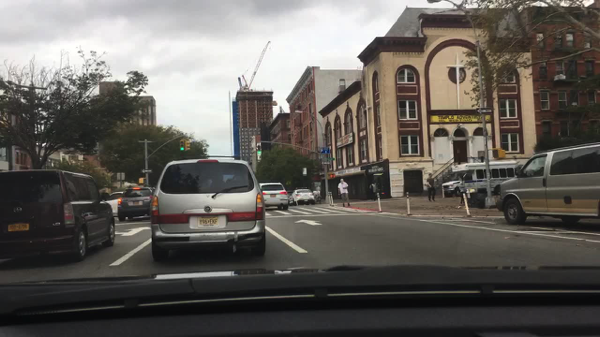bus: (440, 160, 519, 198)
car: (150, 158, 265, 261), (0, 166, 116, 260), (493, 142, 599, 227), (118, 185, 155, 222), (257, 182, 289, 211), (105, 191, 125, 217), (288, 188, 316, 206), (286, 189, 293, 198)
person: (453, 175, 468, 204), (336, 177, 350, 207), (425, 171, 437, 202), (367, 181, 379, 200)
traffic light: (491, 147, 506, 158), (185, 140, 191, 152), (256, 143, 261, 156), (138, 176, 145, 185), (179, 139, 184, 151), (327, 173, 335, 180)
traffic sign: (476, 107, 494, 113), (116, 172, 125, 181), (141, 169, 153, 175), (301, 167, 308, 176), (319, 161, 331, 166), (324, 157, 335, 162)
